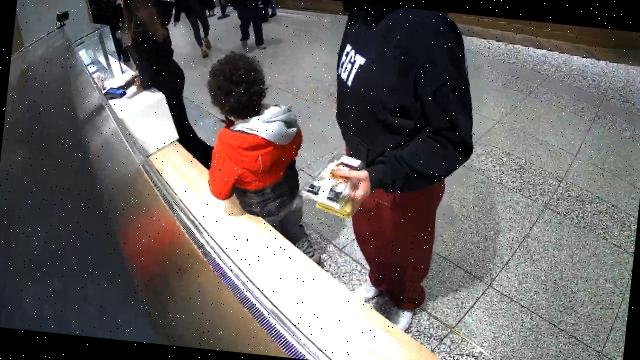sushi-box: (299, 153, 364, 210)
